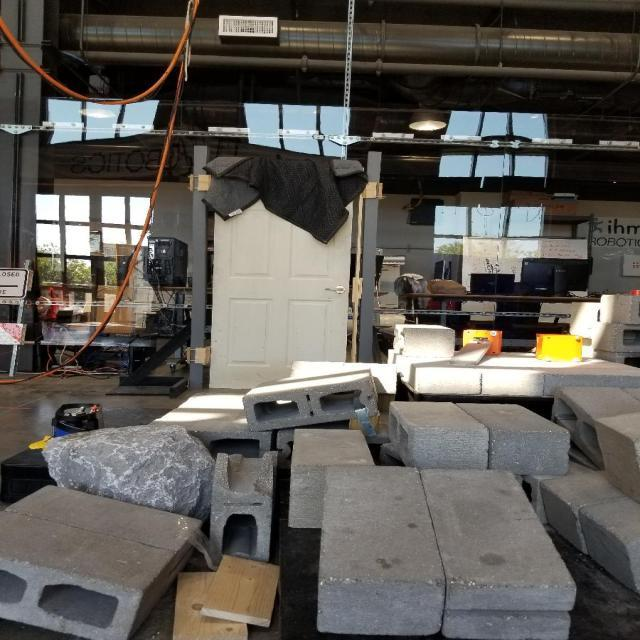door: (207, 158, 355, 406), (322, 282, 347, 294)
